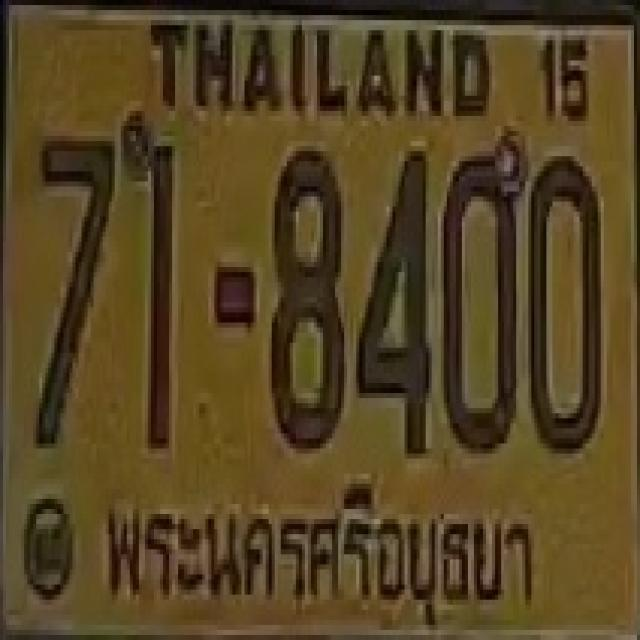0: (441, 146, 522, 449), (528, 154, 601, 451)
1: (145, 136, 175, 449)
4: (355, 146, 430, 454)
7: (33, 134, 115, 446)
8: (269, 146, 344, 449)
AYA: (97, 464, 540, 631)
